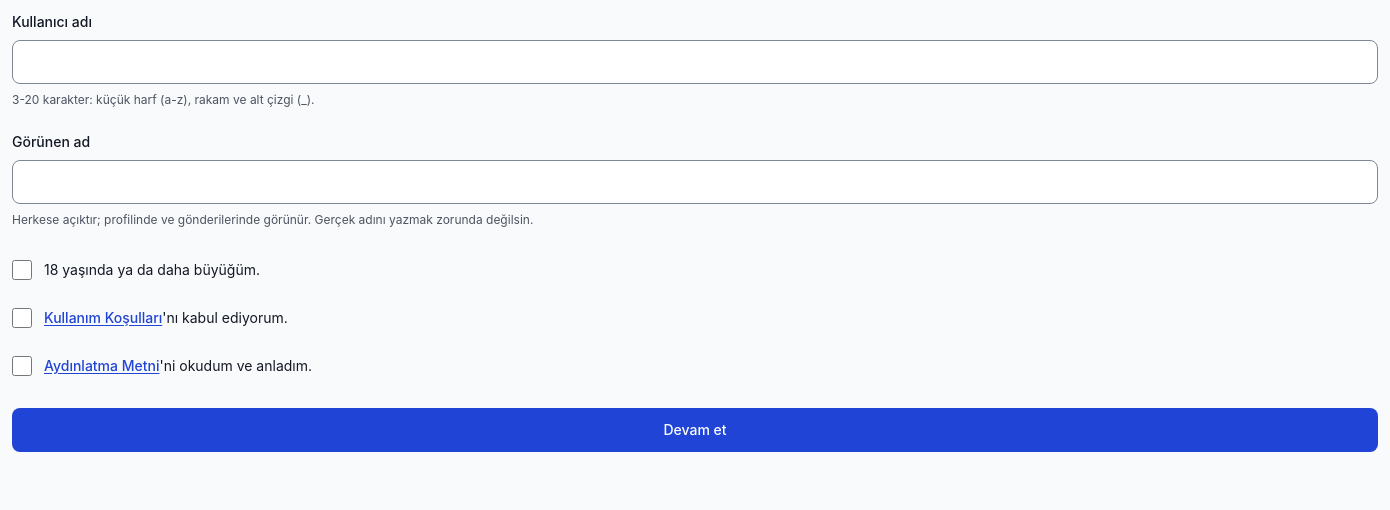
Scenario: OnboardingForm › Kullanım Koşulları kutusu ayrı, işaretsiz ve zorunlu: işaretlenmeden gönderilemez
The width and height of the screenshot is (1390, 510).
Expected: the checkbox labelled "Kullanım Koşulları 'nı kabul ediyorum." is not checked, left=12, top=308, right=32, bottom=328
In the field labelled "Kullanıcı adı": (695, 62) left=12, top=40, right=1378, bottom=84, type "ayse_k"
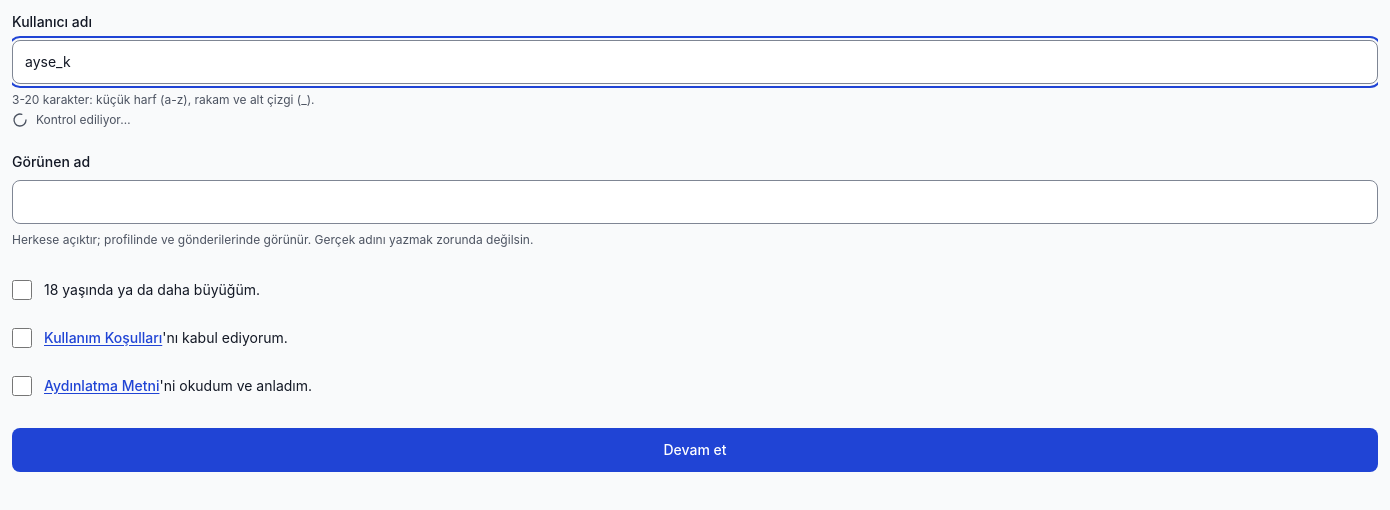
In the field labelled "Görünen ad": (695, 202) left=12, top=180, right=1378, bottom=224, type "Ayşe"
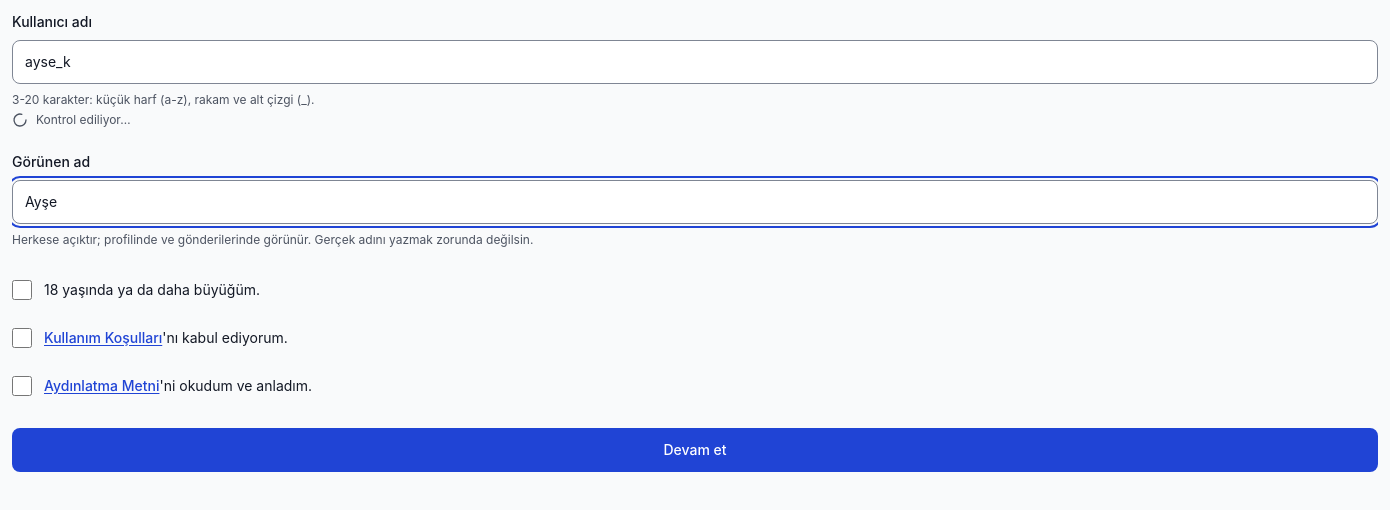
Click the checkbox labelled "18 yaşında ya da daha büyüğüm.": (22, 290) left=12, top=280, right=32, bottom=300
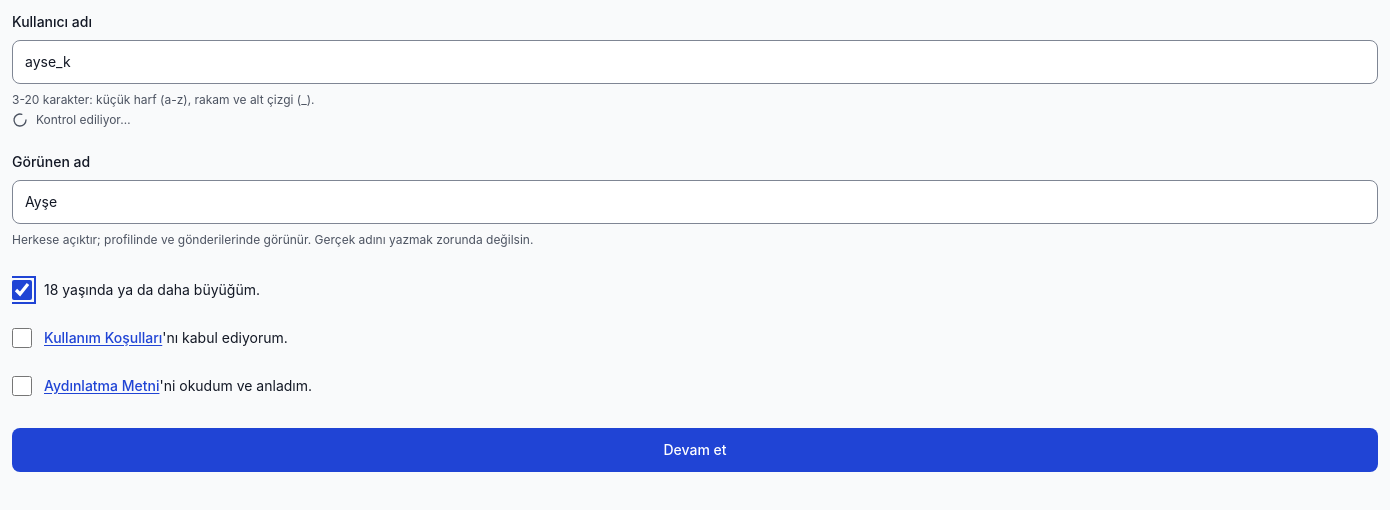
Click the checkbox labelled "Aydınlatma Metni 'ni okudum ve anladım.": (22, 386) left=12, top=376, right=32, bottom=396
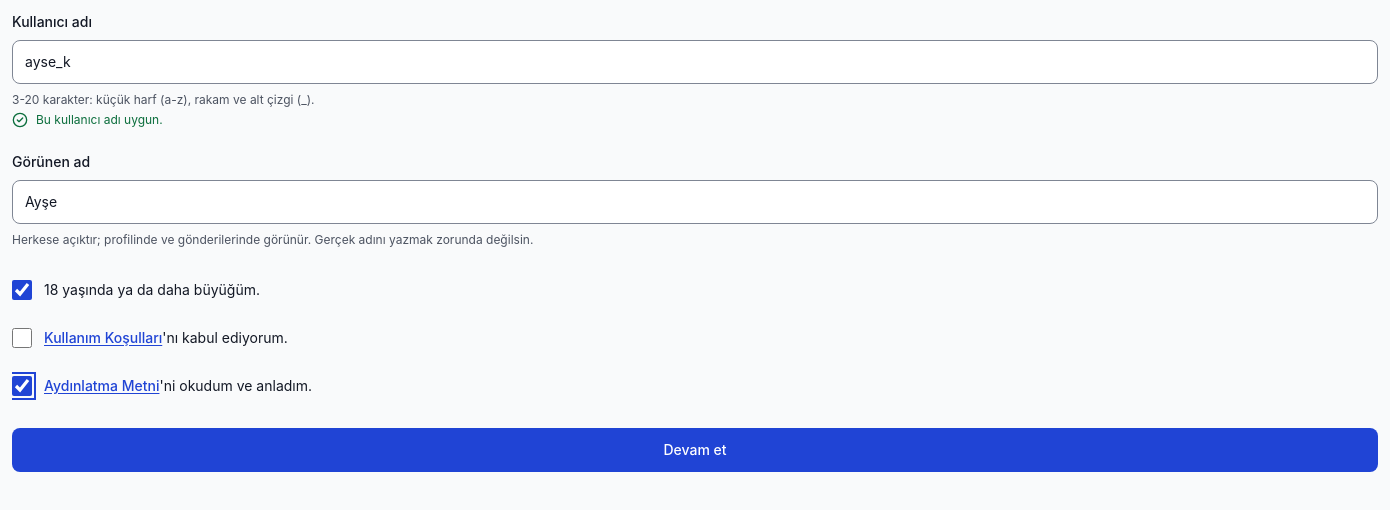
Click the button with test id "onboarding-submit": (695, 450) left=12, top=428, right=1378, bottom=472
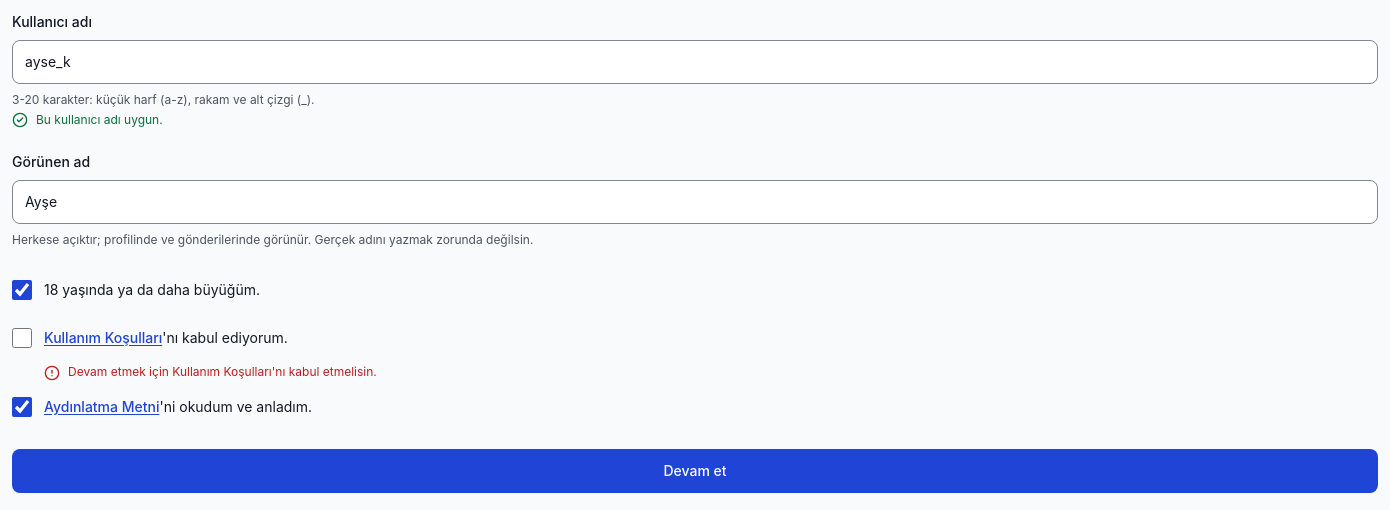
Now the text "Devam etmek için Kullanım Koşulları'nı kabul etmelisin." is shown, box left=68, top=364, right=377, bottom=380
